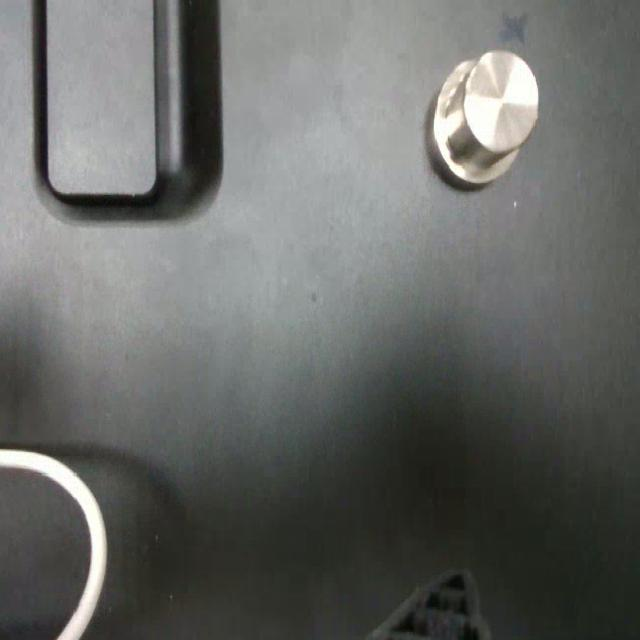sensor: (430, 48, 539, 185)
